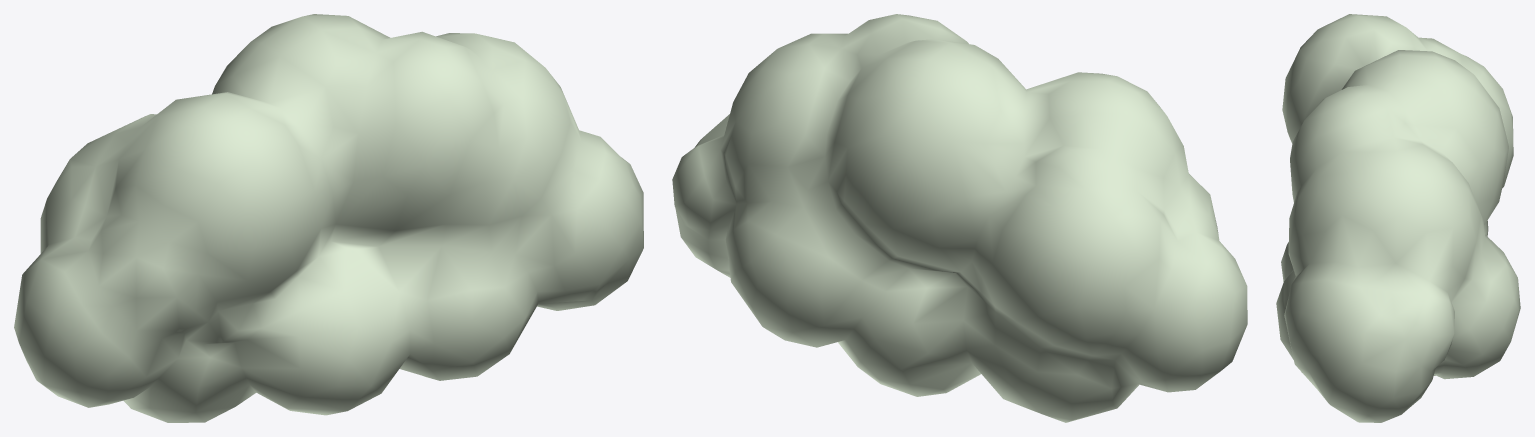
File: clouds.glb
3 views of the same model, side by side, from view 1: azimuth 30°, elevation 25°; view 2: azimuth 150°, elevation 25°; view 3: azimuth 270°, elevation 25° (orthographic). The views are drawn at different scales.
Parts seen in each view (by area): view 1: Cube; view 2: Cube; view 3: Cube.
Boxes of the visible parts, x1,y1,x2,y2 form: Cube: [14, 14, 643, 422]; Cube: [672, 14, 1247, 422]; Cube: [1276, 14, 1520, 422].
Size of the model in its own units: 3.47 by 2 by 1.45.
